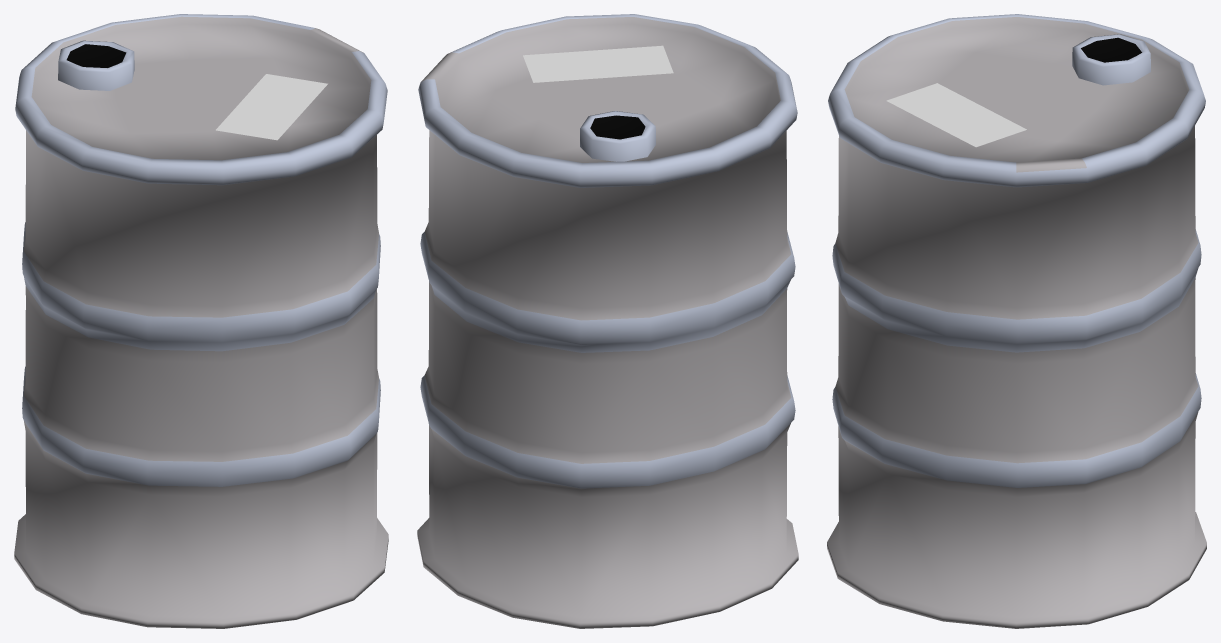
File: barrel.fbx
3 renders of one model, left to right at view 1: azimuth 30°, elevation 25°; view 2: azimuth 150°, elevation 25°; view 3: azimuth 270°, elevation 25°, orthographic.
Visible parts, largest first — view 1: Low, Plane, Cube.001; view 2: Low, Plane, Cube.001; view 3: Low, Plane, Cube.001.
Part boxes in pixels (bbox=[...]): Low: bbox=[14, 14, 388, 628]; Plane: bbox=[216, 74, 327, 140]; Cube.001: bbox=[58, 40, 134, 90]; Low: bbox=[417, 14, 798, 628]; Plane: bbox=[523, 45, 673, 82]; Cube.001: bbox=[580, 111, 655, 161]; Low: bbox=[827, 14, 1206, 628]; Plane: bbox=[886, 83, 1026, 147]; Cube.001: bbox=[1072, 34, 1150, 85].
Bounding box in the file's own units: 370 × 507 × 370.
